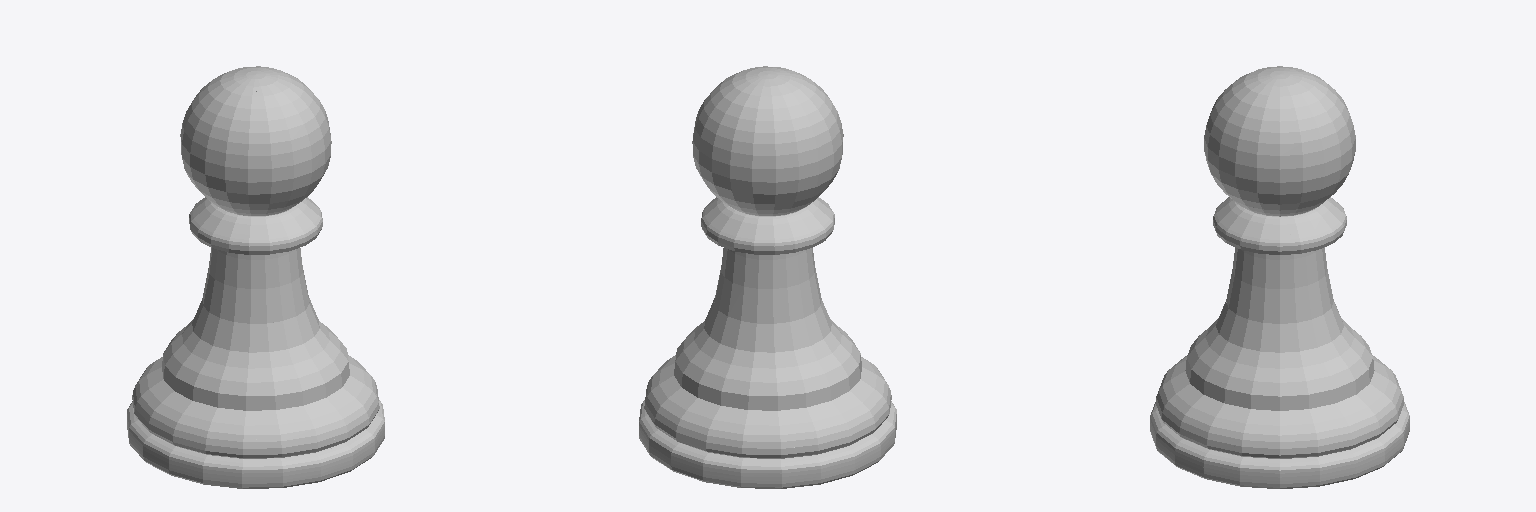
The model's file is pawn_w_7.obj.
3 views of the same model, side by side, from view 1: azimuth 30°, elevation 25°; view 2: azimuth 150°, elevation 25°; view 3: azimuth 270°, elevation 25° (orthographic).
Visible parts, largest first — view 1: pawn_w_7; view 2: pawn_w_7; view 3: pawn_w_7.
Boxes of the visible parts, box(x1,y1,x2,y2) form: pawn_w_7: box(127, 66, 384, 488); pawn_w_7: box(639, 66, 896, 488); pawn_w_7: box(1150, 66, 1409, 488).
Bounding box in the file's own units: 2.73 × 4.2 × 2.73.